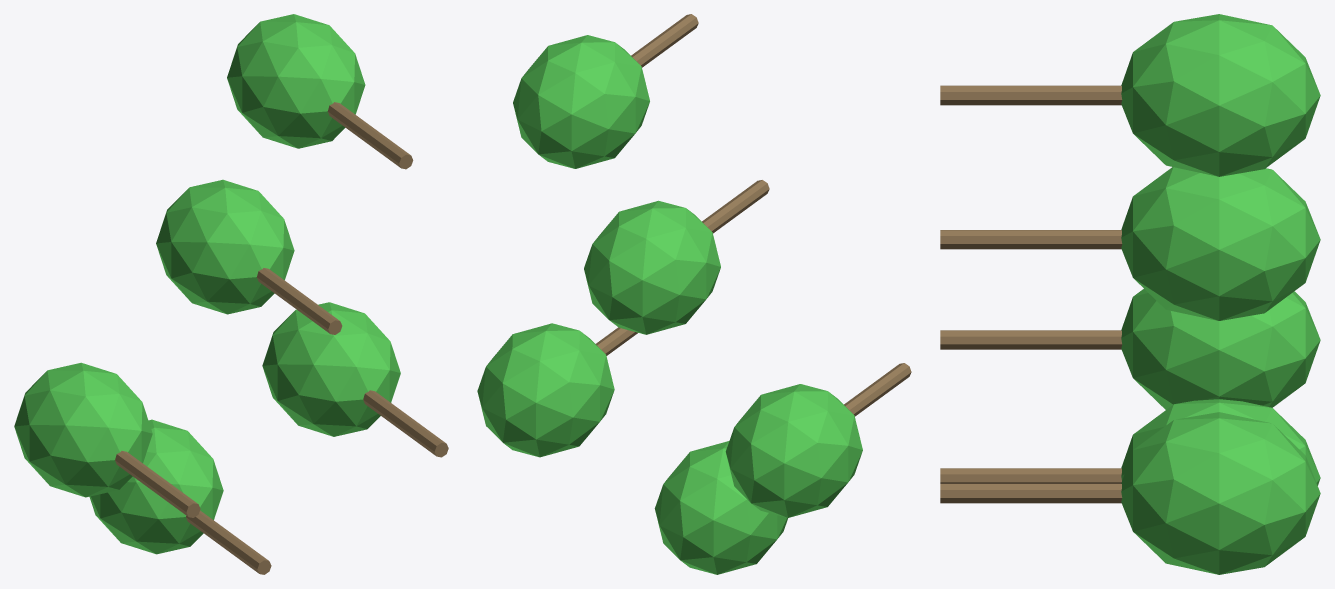
The model's file is forest.fbx.
3 views of the same model, side by side, from view 1: azimuth 30°, elevation 25°; view 2: azimuth 150°, elevation 25°; view 3: azimuth 270°, elevation 25° (orthographic). The views are drawn at different scales.
Visible parts, largest first — view 1: Tree_Trunk.001; view 2: Tree_Trunk.001; view 3: Tree_Trunk.001.
Part boxes in pixels (bbox=[...]): Tree_Trunk.001: bbox=[14, 14, 448, 574]; Tree_Trunk.001: bbox=[477, 14, 911, 574]; Tree_Trunk.001: bbox=[940, 14, 1320, 574].
Bounding box in the file's own units: 452 × 594 × 330.
